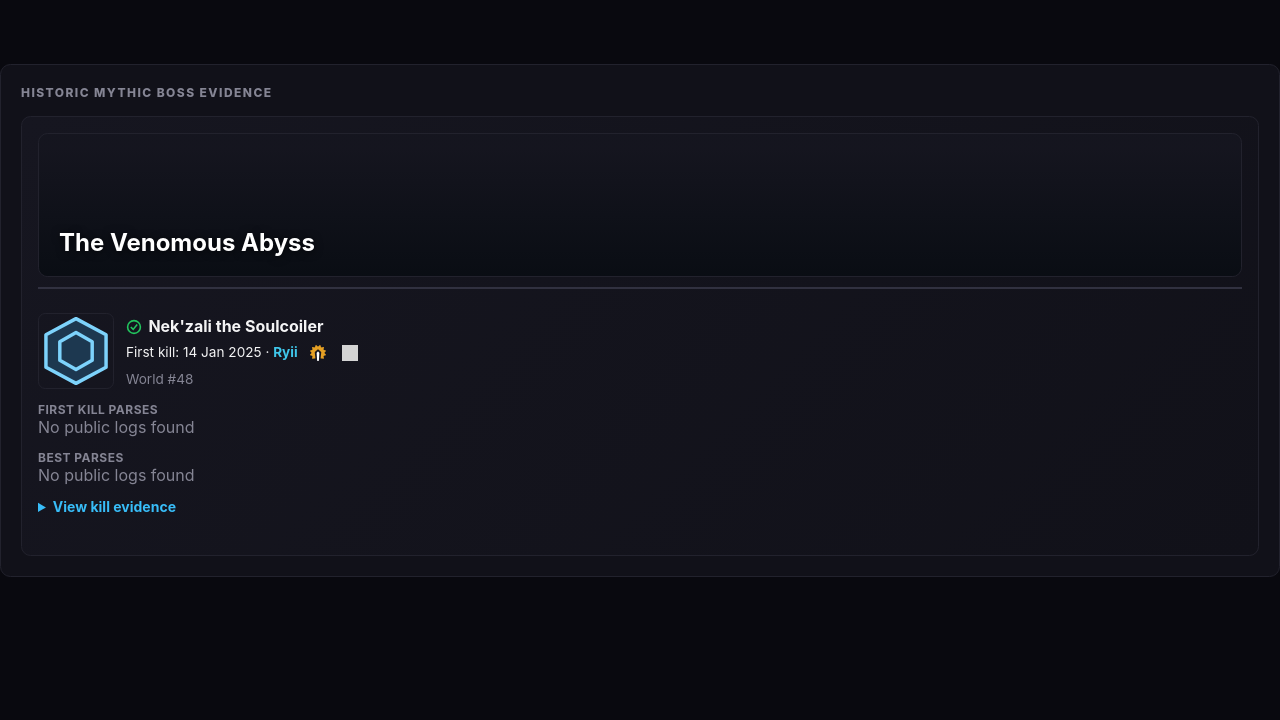
it: shows the grouped rank and keeps distinct reports in a click-only menu
The width and height of the screenshot is (1280, 720).
Expected: the text "World #48" is shown, [126, 371, 193, 387]
Click the heading "View kill evidence".
click(114, 506)  # box [53, 498, 176, 515]
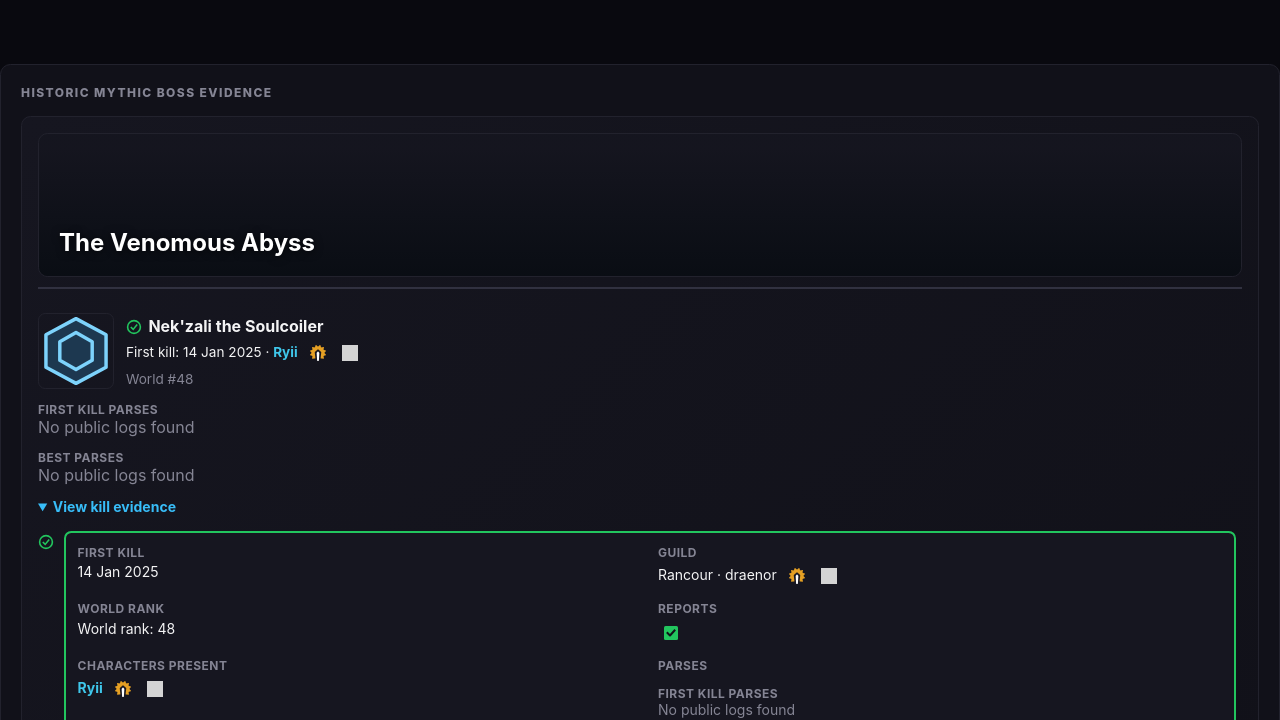
Click the button named "Choose from 2 kill reports".
click(671, 633)  # box [658, 620, 684, 646]
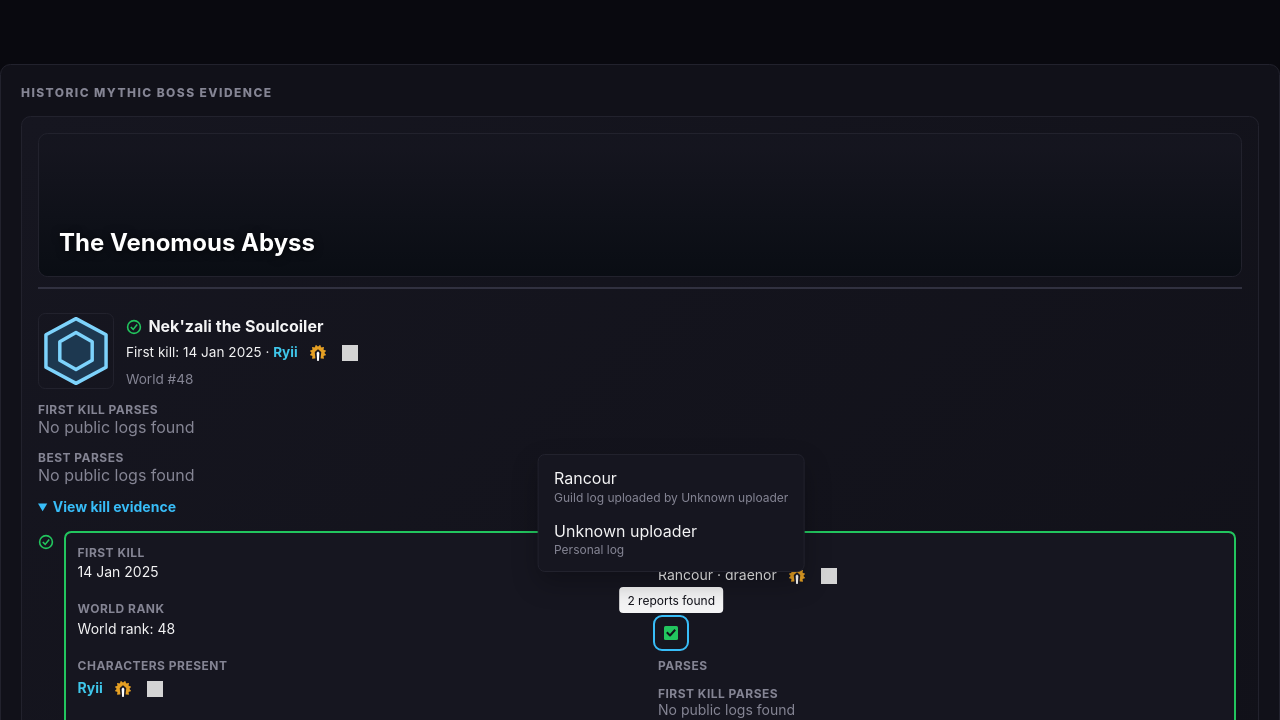
Result: the text "First kill" is shown once at [78, 545, 145, 560]
Result: the link with aria-label "Rancour — Guild log uploaded by Unknown uploader" is shown at [545, 461, 797, 512]
Result: the link with aria-label "Unknown uploader, personal log" is shown at [554, 521, 697, 557]
